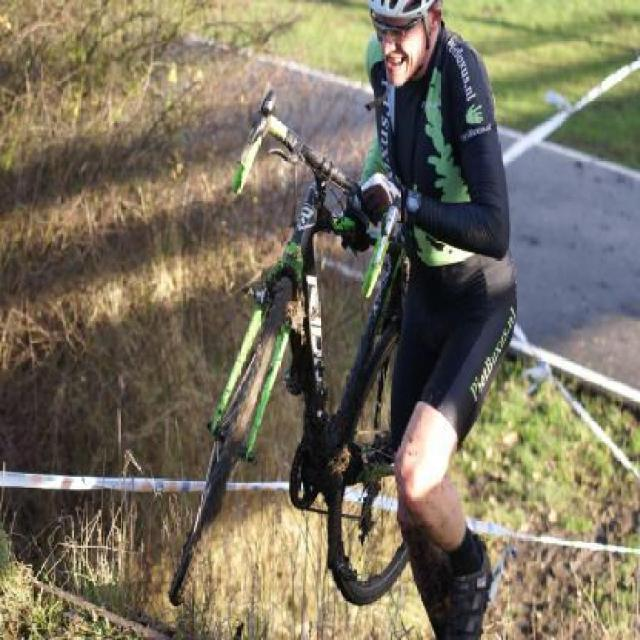Person: (330, 0, 521, 638)
